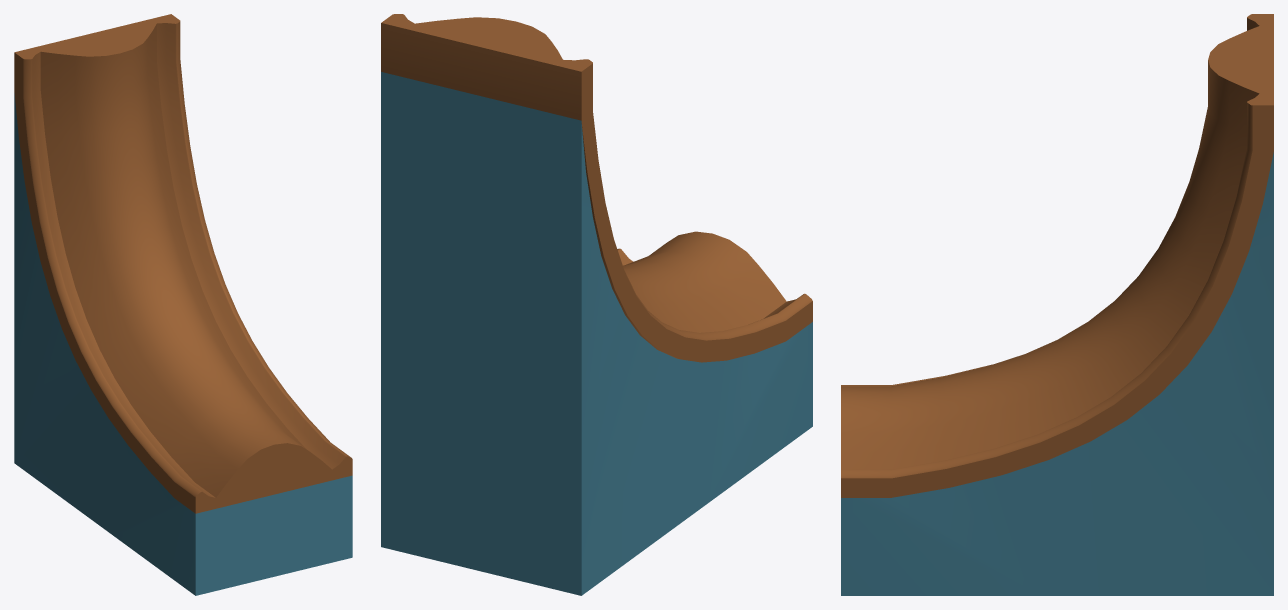
File: 158_wall_deco_round_corner_no_wood_blue.glb
The picture shows the model from 3 angles, left to right: view 1: azimuth 30°, elevation 25°; view 2: azimuth 150°, elevation 25°; view 3: azimuth 270°, elevation 25°; orthographic projection. The views are drawn at different scales.
Visible parts, largest first — view 1: deco, pared; view 2: pared, deco; view 3: pared, deco.
Boxes of the visible parts, box(x1,y1,x2,y2) form: deco: box(14, 14, 352, 513); pared: box(14, 93, 352, 595); pared: box(381, 72, 812, 595); deco: box(381, 14, 812, 362); pared: box(841, 152, 1273, 595); deco: box(841, 14, 1273, 497).
Size of the model in its own units: 0.75 by 1.88 by 1.5.
